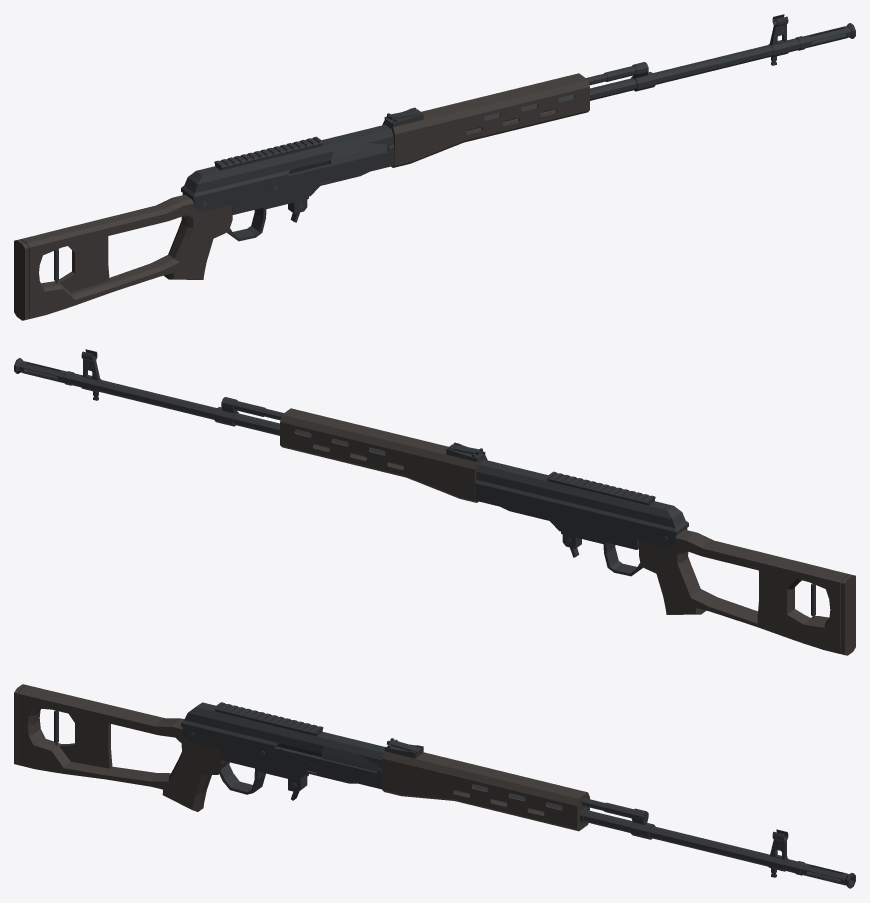
File: SniperRifle2_02.fbx
The picture shows the model from 3 angles, top to bottom: view 1: azimuth 30°, elevation 25°; view 2: azimuth 150°, elevation 25°; view 3: azimuth 330°, elevation 25°; orthographic projection.
Visible parts, largest first — view 1: SniperRifle2_02; view 2: SniperRifle2_02; view 3: SniperRifle2_02.
Boxes of the visible parts, bbox=[...] form: SniperRifle2_02: bbox=[14, 14, 855, 320]; SniperRifle2_02: bbox=[14, 349, 855, 655]; SniperRifle2_02: bbox=[14, 684, 855, 888].
Size of the model in its own units: 1.51 by 0.2075 by 0.0444.
